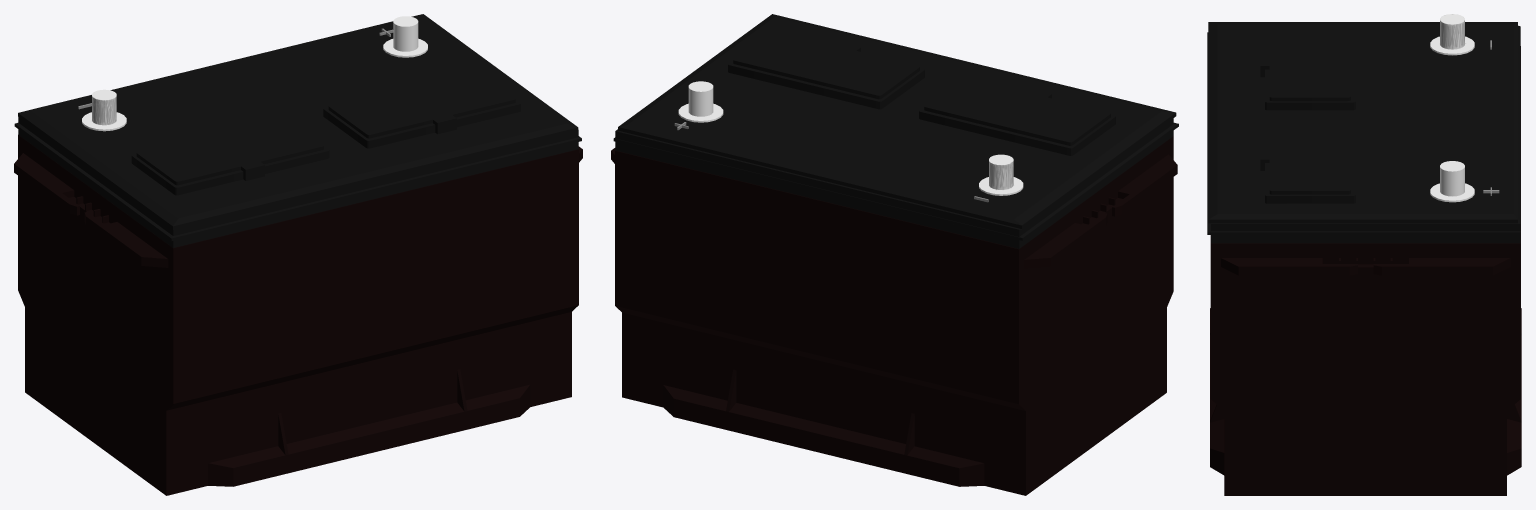
The model's file is acumulador6.glb.
3 renders of one model, left to right at view 1: azimuth 30°, elevation 25°; view 2: azimuth 150°, elevation 25°; view 3: azimuth 270°, elevation 25°, orthographic.
Parts seen in each view (by area): view 1: mesh_id5, mesh_id6; view 2: mesh_id5, mesh_id6; view 3: mesh_id5, mesh_id6.
Boxes of the visible parts, x1,y1,x2,y2 form: mesh_id5: (14, 14, 582, 495); mesh_id6: (82, 16, 427, 131); mesh_id5: (611, 14, 1178, 495); mesh_id6: (678, 81, 1023, 195); mesh_id5: (1207, 22, 1521, 495); mesh_id6: (1430, 14, 1474, 202).
Bounding box in the file's own units: 0.4149 × 0.2736 × 0.2562.
Materials: 3 (3 with a texture image).
